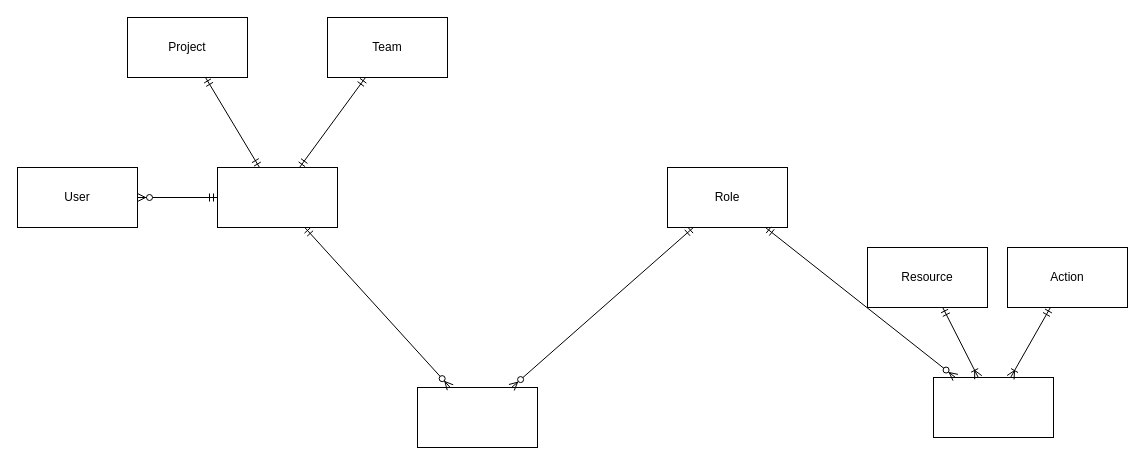
This 1145x465 diagram has some shape labels left out. Here are the shapes that lost their labels. From the top down, the centre of each, then its label:
At pixel 277 197: "Group".
At pixel 477 417: "Group_Role".
At pixel 993 407: "Statement".
